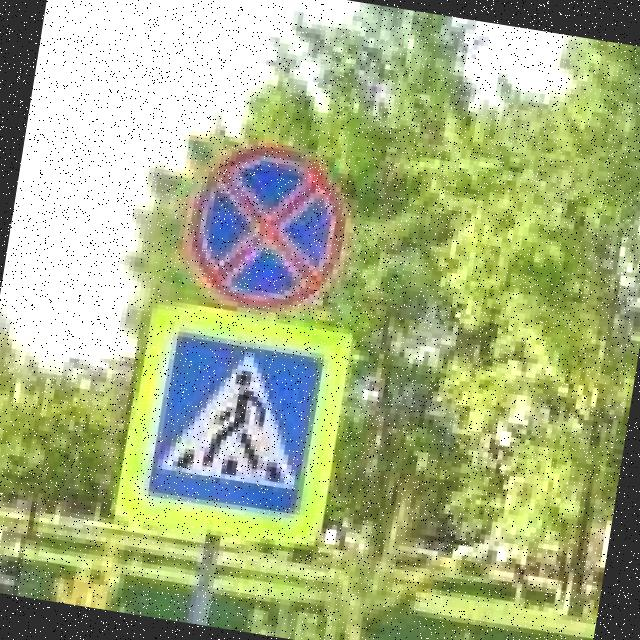Przejscie dla pieszych: (109, 292, 358, 558)
Zakaz zatrzymywania sie: (174, 132, 361, 322)
